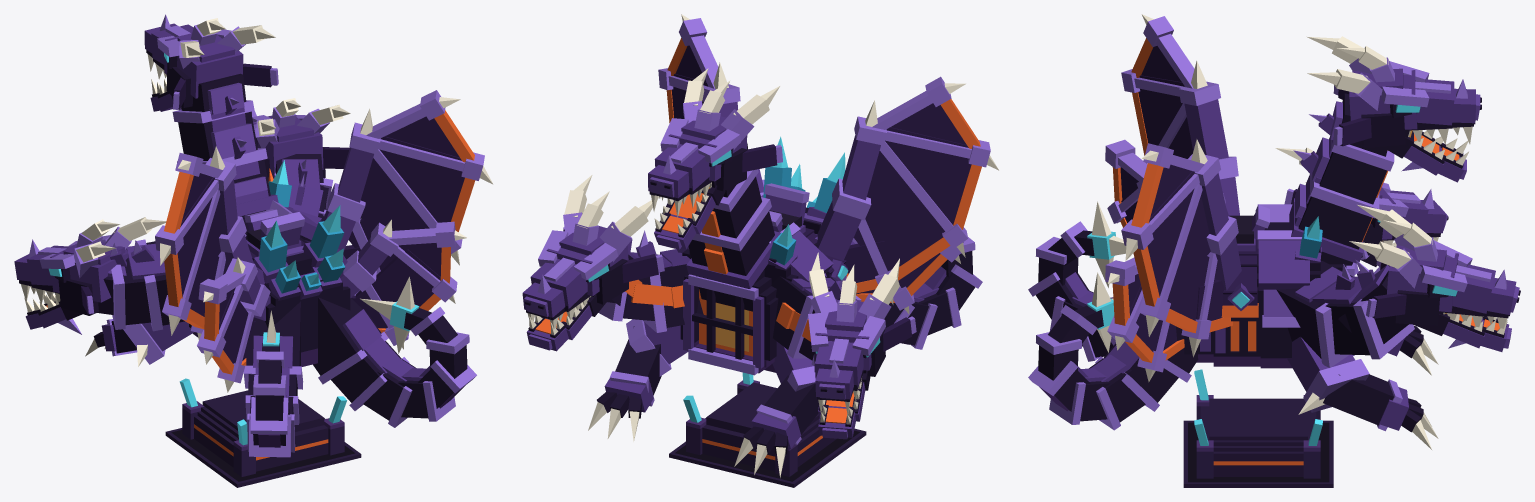
Rendered from SeahorseRocker11.obj.
The picture shows the model from 3 angles, left to right: view 1: azimuth 30°, elevation 25°; view 2: azimuth 150°, elevation 25°; view 3: azimuth 270°, elevation 25°; orthographic projection. The views are drawn at different scales.
Parts seen in each view (by area): view 1: WingR, WingL, Body, Stand, Wing2R, Neck, Head, HeadL, TR1, Wing2L, NeckL, HeadR (+11 smaller); view 2: WingL, Body, HeadR, Head, HeadL, Stand, Neck, ArmR, ArmL, NeckR, WingR, NeckL (+6 smaller); view 3: WingR, Stand, Body, Head, HeadR, WingL, Neck, NeckR, ArmR, Wing2R, TR2, HeadL (+10 smaller).
Part boxes in pixels (x1,y1,x2,y2): WingR: [322, 90, 493, 274]; WingL: [155, 146, 253, 339]; Body: [189, 160, 359, 366]; Stand: [165, 378, 361, 487]; Wing2R: [340, 219, 466, 349]; Neck: [172, 73, 278, 220]; Head: [144, 14, 278, 109]; HeadL: [14, 217, 166, 315]; TR1: [313, 296, 409, 410]; Wing2L: [197, 257, 270, 392]; NeckL: [97, 239, 184, 331]; HeadR: [251, 98, 350, 181]; WingL: [817, 76, 998, 304]; Body: [677, 136, 855, 375]; HeadR: [522, 175, 664, 329]; Head: [648, 68, 782, 217]; HeadL: [808, 252, 916, 415]; Stand: [669, 372, 866, 487]; Neck: [686, 143, 780, 311]; ArmR: [588, 319, 688, 441]; ArmL: [734, 341, 818, 477]; NeckR: [598, 230, 703, 332]; WingR: [658, 14, 740, 122]; NeckL: [771, 274, 861, 365]; WingR: [1121, 139, 1241, 357]; Stand: [1183, 369, 1333, 487]; Body: [1184, 193, 1354, 368]; Head: [1306, 36, 1481, 147]; HeadR: [1349, 205, 1520, 328]; WingL: [1121, 14, 1239, 215]; Neck: [1289, 93, 1394, 265]; NeckR: [1276, 259, 1414, 367]; ArmR: [1287, 336, 1438, 449]; Wing2R: [1105, 257, 1184, 382]; TR2: [1049, 354, 1145, 430]; HeadL: [1275, 147, 1448, 255].
Size of the model in its own units: 37.61 by 42.08 by 46.05.
Materials: 1 (1 with a texture image).
